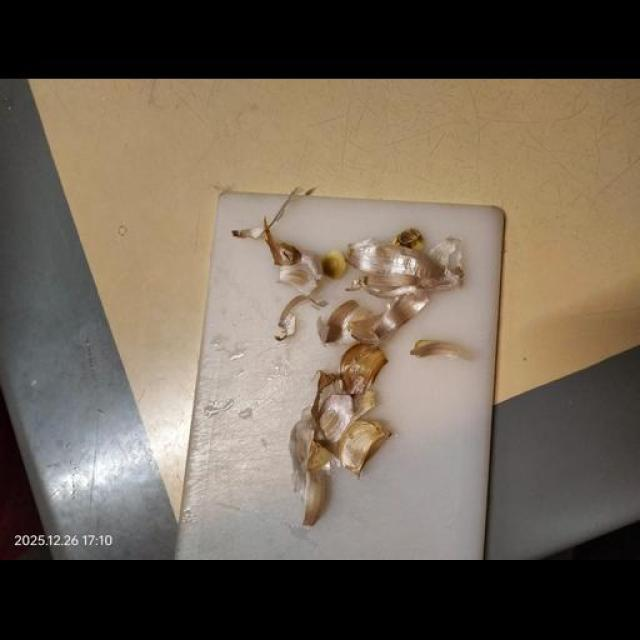organic: (237, 188, 469, 555), (0, 394, 42, 559)
